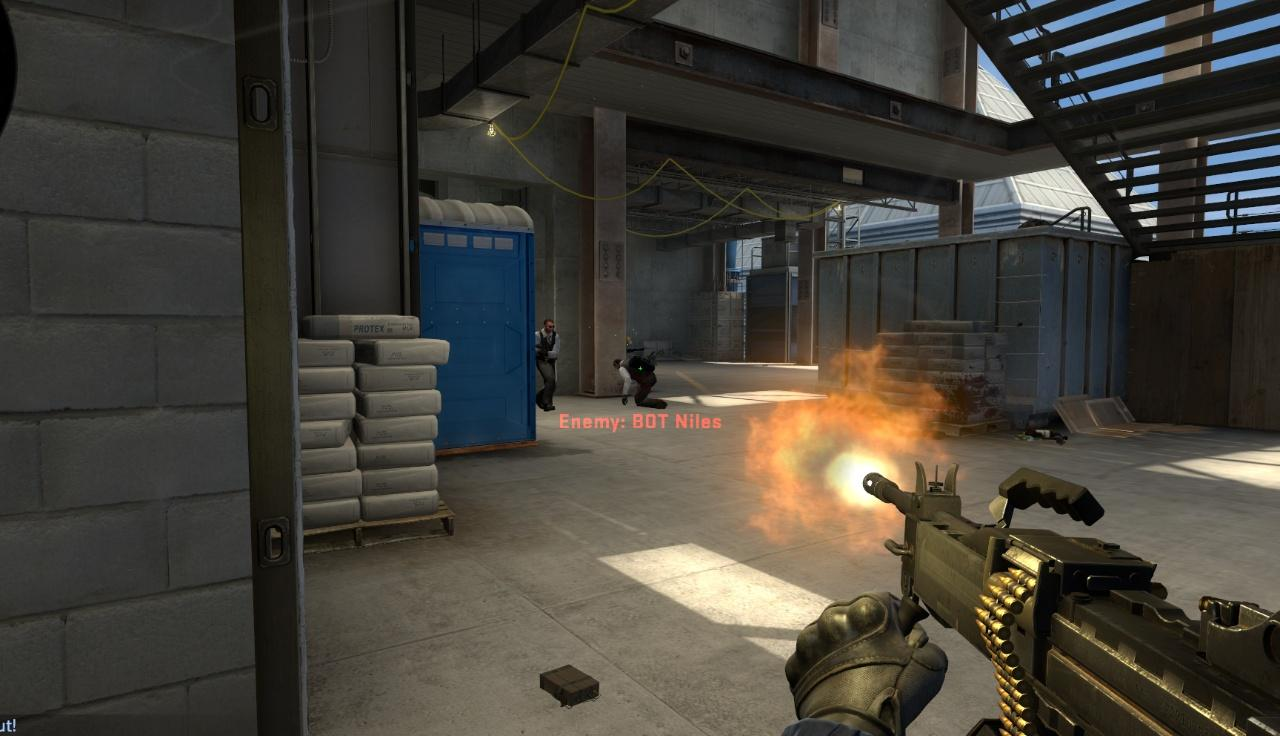rifle: (848, 459, 1280, 736)
tt: (534, 318, 561, 410)
tthead: (543, 318, 556, 334)
